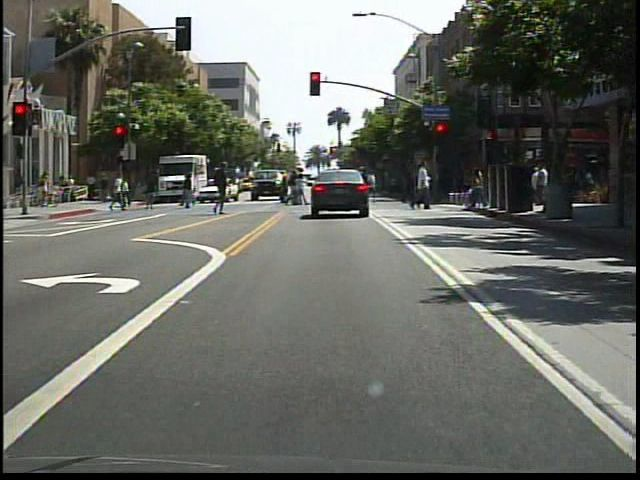person: (409, 158, 437, 212), (209, 162, 235, 220), (327, 168, 349, 215), (111, 172, 130, 217), (180, 171, 200, 212)
